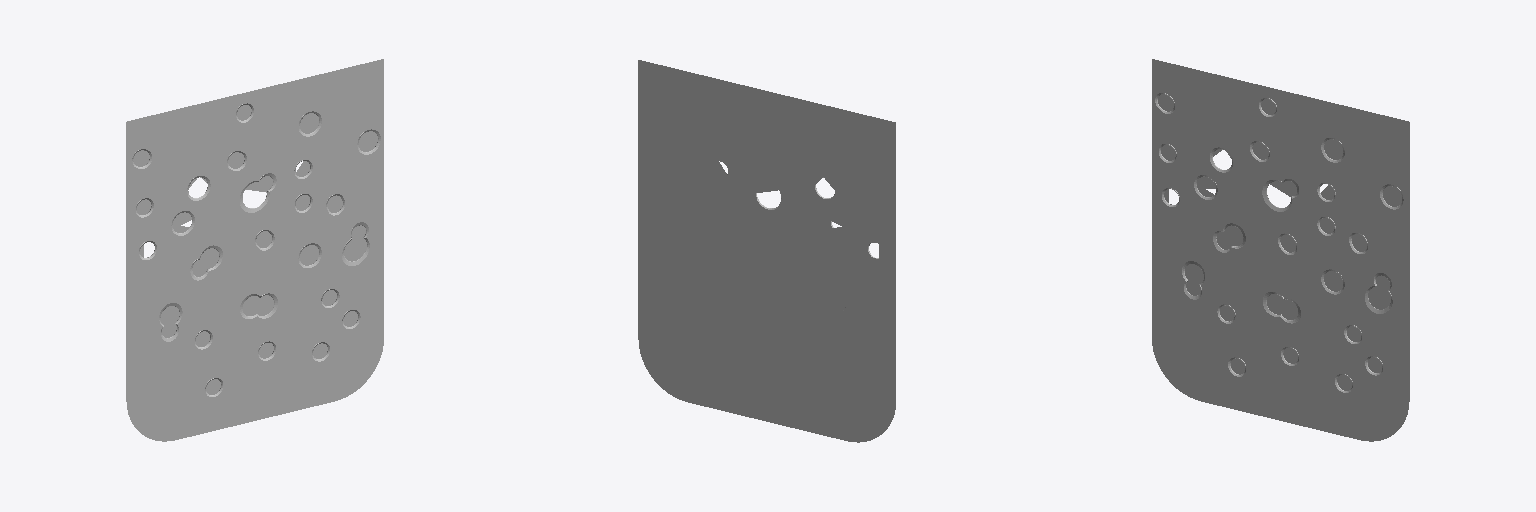
Rendered from Speelveld_006.obj.
3 renders of one model, left to right at view 1: azimuth 30°, elevation 25°; view 2: azimuth 150°, elevation 25°; view 3: azimuth 330°, elevation 25°, orthographic.
Visible parts, largest first — view 1: Level_006_Plane.007; view 2: Level_006_Plane.007; view 3: Level_006_Plane.007.
Part boxes in pixels (x1,y1,x2,y2): Level_006_Plane.007: (126,59,383,441); Level_006_Plane.007: (638,60,895,442); Level_006_Plane.007: (1152,59,1409,441).
Size of the model in its own units: 26 by 31.87 by 0.2234.